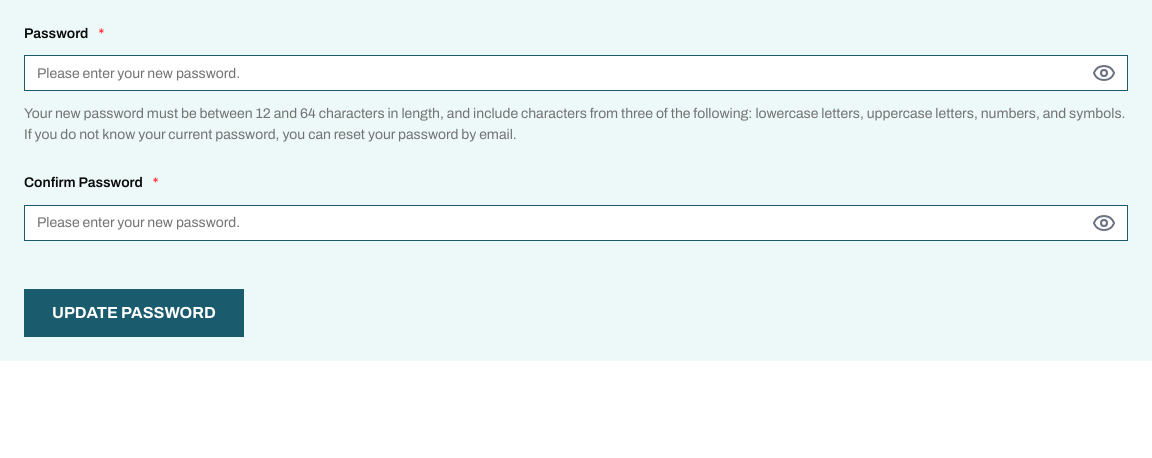
it: FormChangePassword (integration) › blocks submission when the password is too weak
Type "weak" into the password field labelled "Password *" at (576, 73), box [24,55,1128,91]
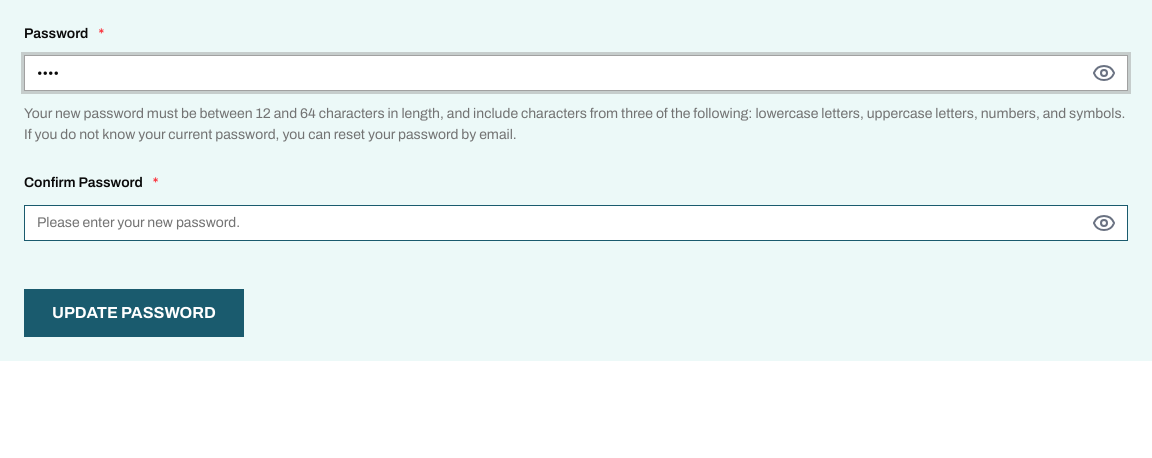
Type "weak" into the password field labelled "Confirm Password *" at (576, 222), box [24,204,1128,240]
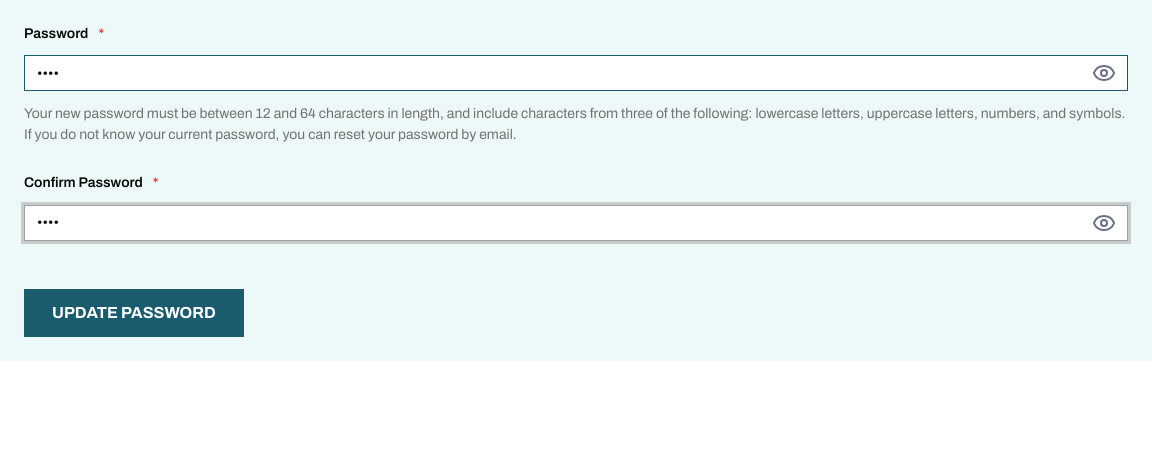
Click the button "Update Password" at (134, 312), box [24,288,244,336]
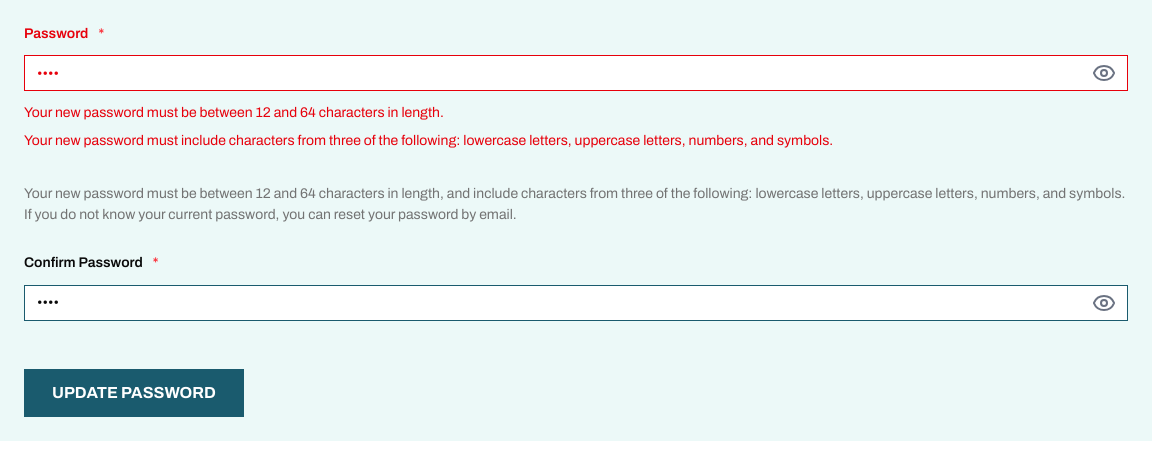
Check: the message is shown, box [24,105,833,148]
